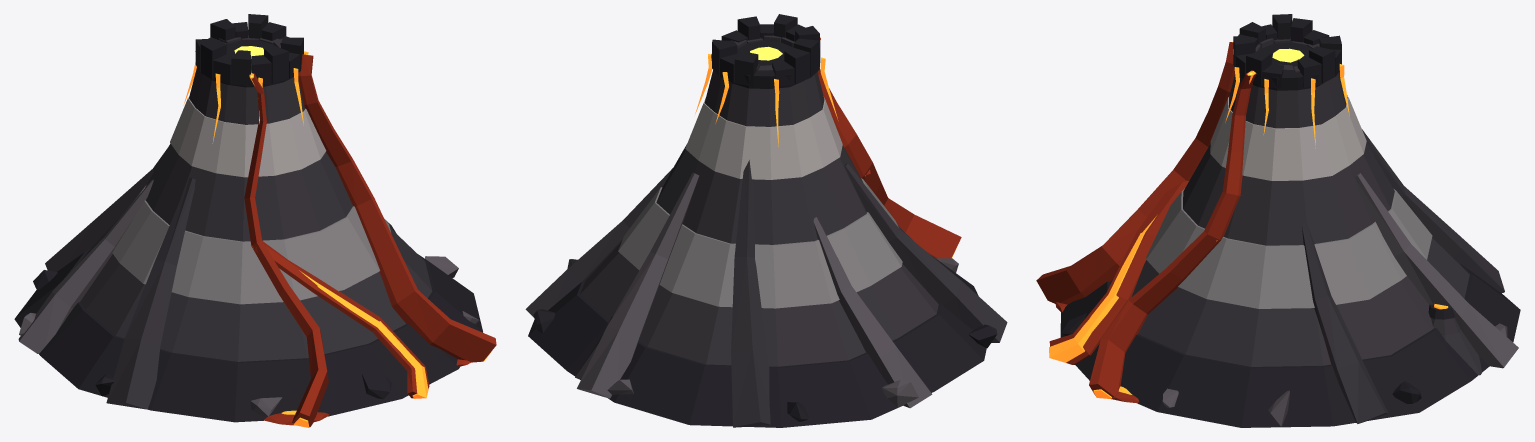
The model's file is Volcano_1_Volcano.fbx.
3 views of the same model, side by side, from view 1: azimuth 30°, elevation 25°; view 2: azimuth 150°, elevation 25°; view 3: azimuth 270°, elevation 25° (orthographic).
Parts seen in each view (by area): view 1: Volcano_1_Volcano__Volcano_Basalt, Volcano_1_Volcano__Volcano_BasaltDark, Volcano_1_Volcano__Volcano_LavaCrust, Volcano_1_Volcano__Volcano_Ash, Volcano_1_Volcano__Volcano_AshLight, Volcano_1_Volcano__Volcano_BasaltLight, Volcano_1_Volcano__Neon_Volcano_Lava; view 2: Volcano_1_Volcano__Volcano_Basalt, Volcano_1_Volcano__Volcano_BasaltDark, Volcano_1_Volcano__Volcano_Ash, Volcano_1_Volcano__Volcano_BasaltLight, Volcano_1_Volcano__Volcano_AshLight, Volcano_1_Volcano__Volcano_LavaCrust, Volcano_1_Volcano__Neon_Volcano_Lava; view 3: Volcano_1_Volcano__Volcano_Basalt, Volcano_1_Volcano__Volcano_BasaltDark, Volcano_1_Volcano__Volcano_LavaCrust, Volcano_1_Volcano__Volcano_Ash, Volcano_1_Volcano__Volcano_AshLight, Volcano_1_Volcano__Volcano_BasaltLight, Volcano_1_Volcano__Neon_Volcano_Lava.
Part boxes in pixels (left/top/right/bottom): Volcano_1_Volcano__Volcano_Basalt: left=45, top=35, right=432, bottom=409; Volcano_1_Volcano__Volcano_BasaltDark: left=14, top=14, right=482, bottom=422; Volcano_1_Volcano__Volcano_LavaCrust: left=244, top=54, right=496, bottom=427; Volcano_1_Volcano__Volcano_Ash: left=112, top=184, right=390, bottom=304; Volcano_1_Volcano__Volcano_AshLight: left=170, top=97, right=326, bottom=177; Volcano_1_Volcano__Volcano_BasaltLight: left=18, top=179, right=479, bottom=416; Volcano_1_Volcano__Neon_Volcano_Lava: left=183, top=51, right=491, bottom=427; Volcano_1_Volcano__Volcano_Basalt: left=525, top=35, right=1007, bottom=427; Volcano_1_Volcano__Volcano_BasaltDark: left=528, top=14, right=997, bottom=427; Volcano_1_Volcano__Volcano_Ash: left=618, top=178, right=902, bottom=308; Volcano_1_Volcano__Volcano_BasaltLight: left=567, top=172, right=958, bottom=408; Volcano_1_Volcano__Volcano_AshLight: left=685, top=96, right=842, bottom=179; Volcano_1_Volcano__Volcano_LavaCrust: left=817, top=37, right=961, bottom=258; Volcano_1_Volcano__Neon_Volcano_Lava: left=695, top=54, right=957, bottom=257; Volcano_1_Volcano__Volcano_Basalt: left=1110, top=37, right=1504, bottom=423; Volcano_1_Volcano__Volcano_BasaltDark: left=1060, top=14, right=1520, bottom=427; Volcano_1_Volcano__Volcano_LavaCrust: left=1036, top=42, right=1256, bottom=403; Volcano_1_Volcano__Volcano_Ash: left=1146, top=188, right=1432, bottom=308; Volcano_1_Volcano__Volcano_AshLight: left=1210, top=97, right=1366, bottom=180; Volcano_1_Volcano__Volcano_BasaltLight: left=1162, top=173, right=1518, bottom=426; Volcano_1_Volcano__Neon_Volcano_Lava: left=1049, top=42, right=1448, bottom=398.
Size of the model in its own units: 318 by 222 by 333.
